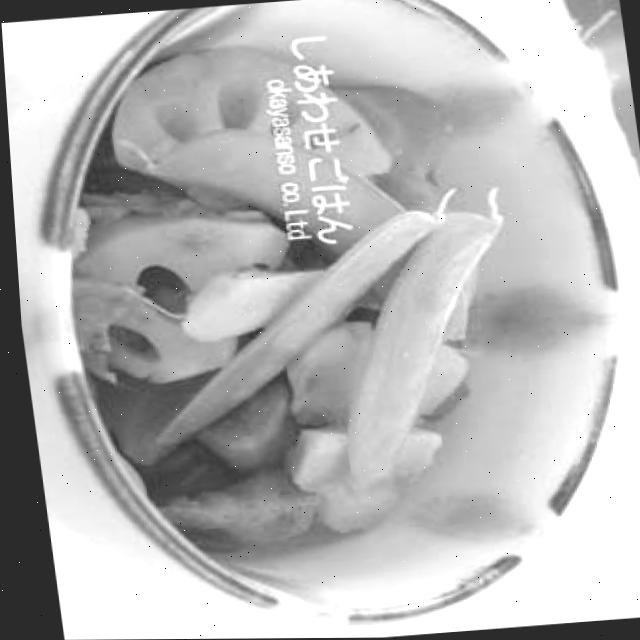鸡肉料理 含炸鸡: (4, 0, 631, 640)
